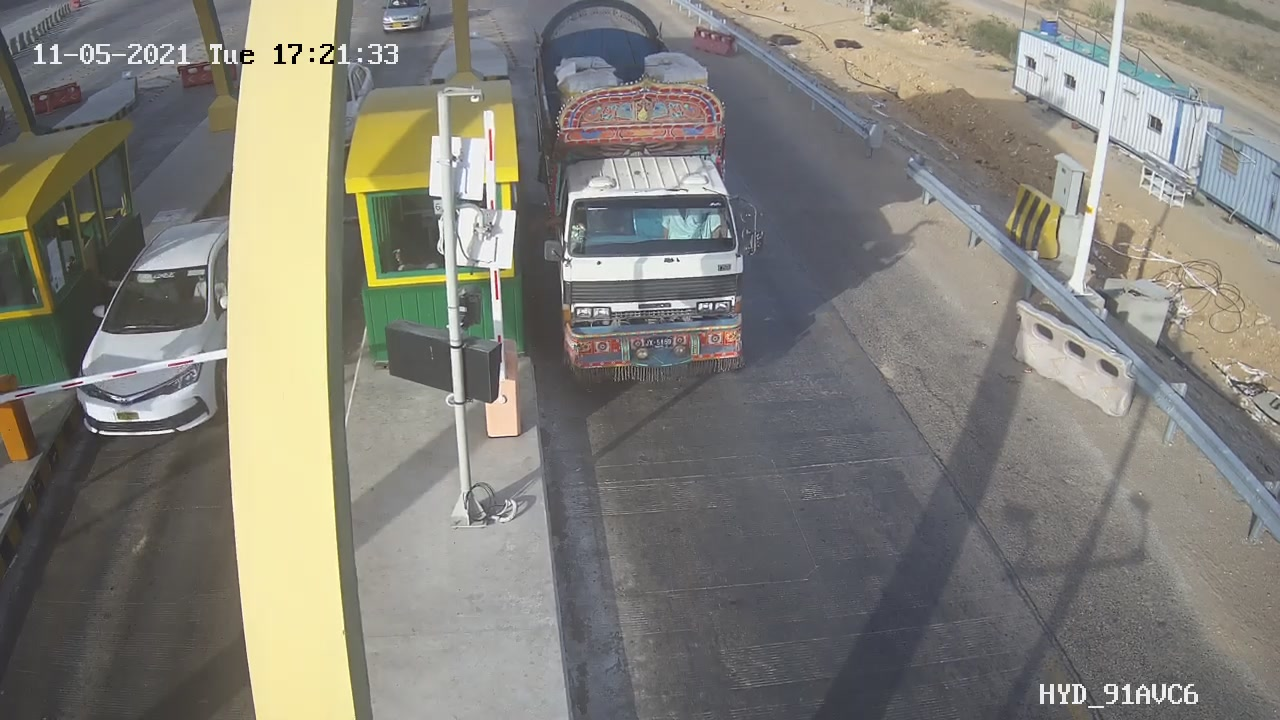F5: (516, 1, 790, 416)
